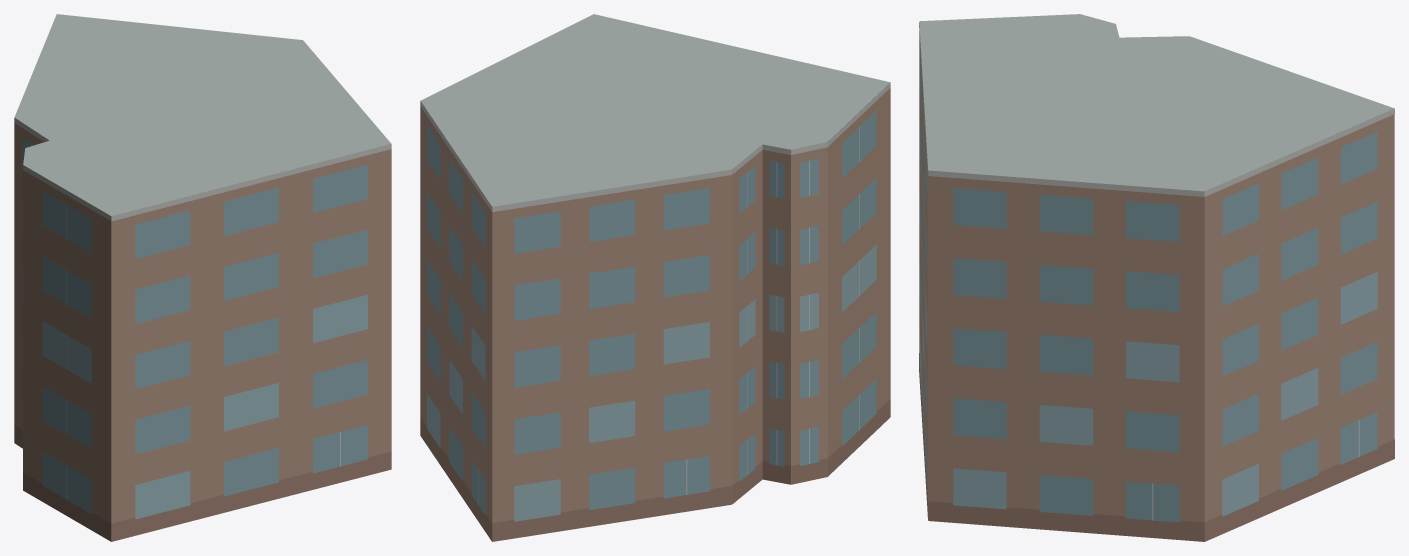
Rendered from survey-upis-32699196.glb.
3 renders of one model, left to right at view 1: azimuth 30°, elevation 25°; view 2: azimuth 150°, elevation 25°; view 3: azimuth 270°, elevation 25°, orthographic. The views are drawn at different scales.
Visible parts, largest first — view 1: survey-upis-32699196.tmp; view 2: survey-upis-32699196.tmp; view 3: survey-upis-32699196.tmp.
Boxes of the visible parts, x1,y1,x2,y2 form: survey-upis-32699196.tmp: (14, 14, 391, 541); survey-upis-32699196.tmp: (420, 14, 890, 541); survey-upis-32699196.tmp: (919, 14, 1394, 541).
Bounding box in the file's own units: 16.73 × 15.4 × 18.95.
